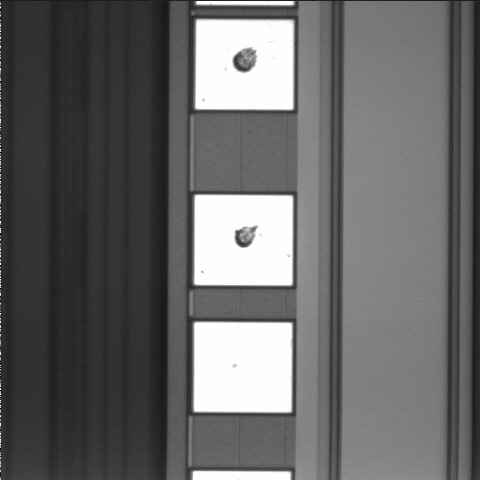pad: (195, 20, 294, 110), (194, 195, 293, 285), (194, 322, 292, 412)
